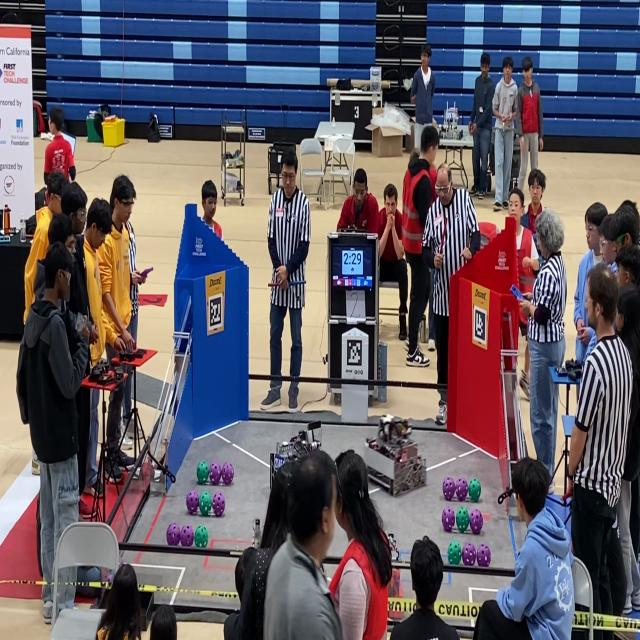artifact_green: (456, 507, 469, 533), (199, 492, 212, 516), (194, 526, 208, 548), (448, 542, 461, 565), (469, 479, 481, 502), (197, 462, 209, 484)
artifact_purple: (441, 507, 455, 532), (462, 542, 476, 566), (470, 509, 483, 534), (477, 544, 490, 567), (186, 491, 199, 514), (213, 492, 225, 516), (180, 526, 194, 546), (443, 477, 455, 500), (222, 462, 234, 485), (167, 524, 180, 545), (456, 478, 467, 501), (209, 463, 221, 484), (105, 572, 114, 584), (119, 557, 123, 567)
